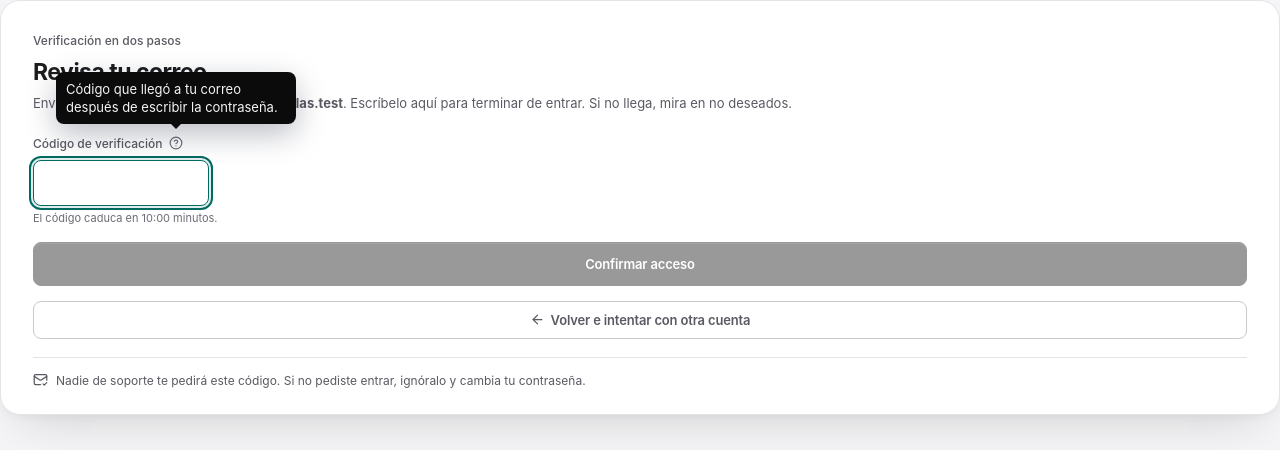
Scenario: LoginPinForm › descarta lo que no sean dígitos y no pasa de seis
Step 1. Type "12a3-45 6789" into the field with class "login-pin-input" → (121, 183), box [33, 160, 209, 206]
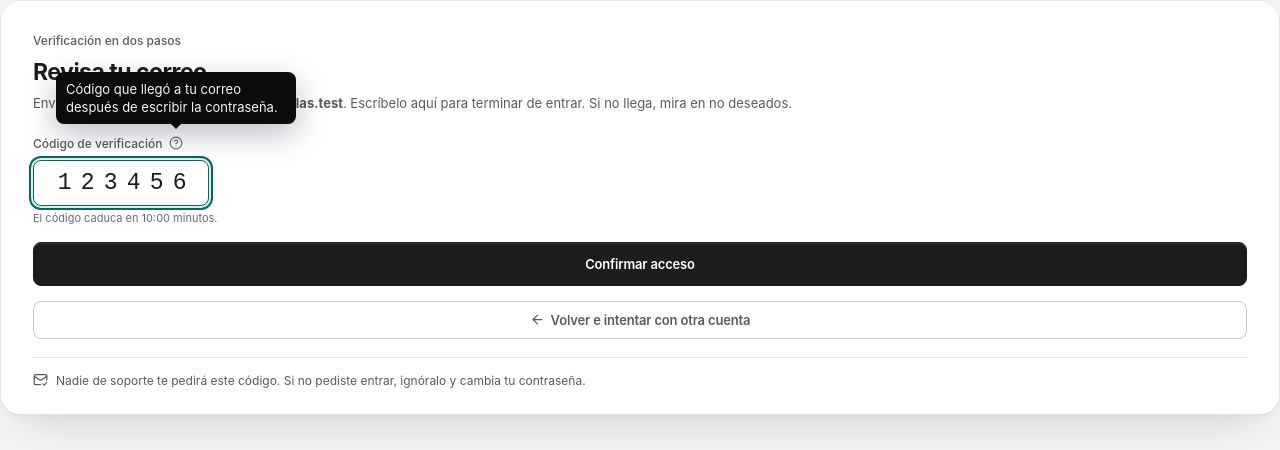
Result: the field with class "login-pin-input" holds "123456" at [33, 160, 209, 206]
